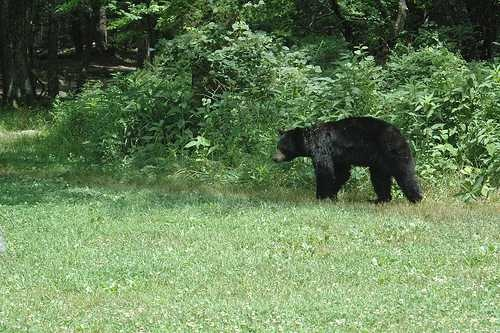bear: (269, 97, 397, 225)
